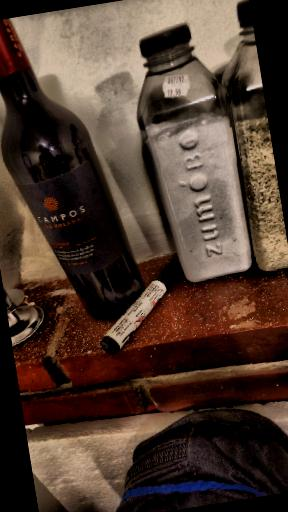marcador negro: (101, 260, 181, 354)
